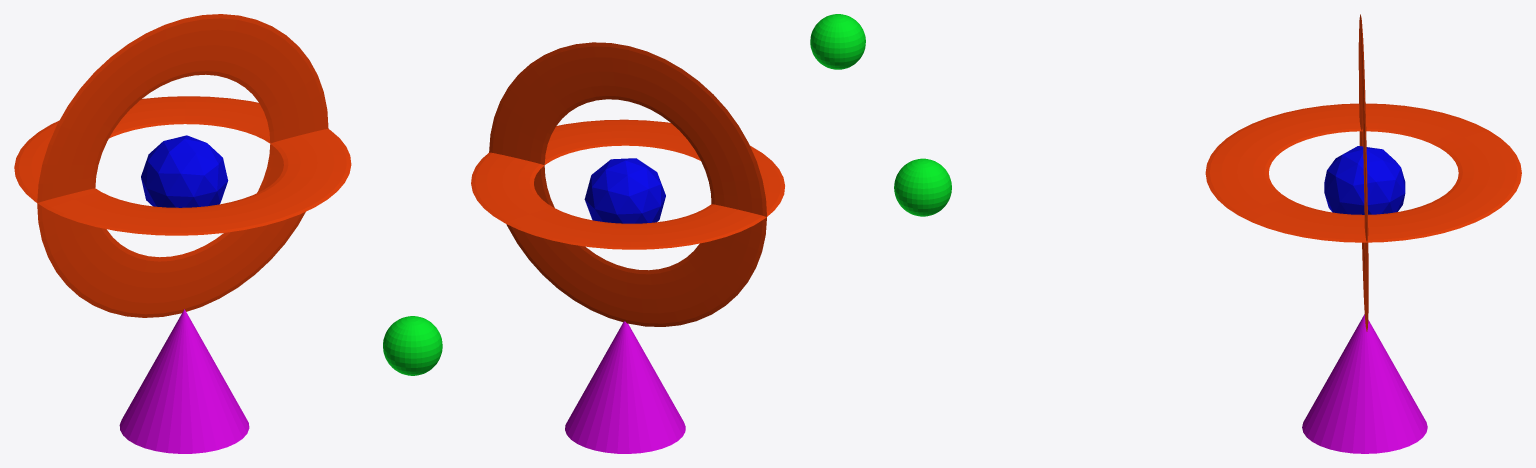
File: animate.glb
The picture shows the model from 3 angles, left to right: view 1: azimuth 30°, elevation 25°; view 2: azimuth 150°, elevation 25°; view 3: azimuth 270°, elevation 25°; orthographic projection. The views are drawn at different scales.
Visible parts, largest first — view 1: Torus, Torus.001, Cone, Icosphere, Sphere; view 2: Torus, Torus.001, Cone, Icosphere, Sphere; view 3: Torus.001, Cone, Icosphere, Sphere, Torus.
Boxes of the visible parts, bbox=[...] form: Torus: bbox=[37, 14, 328, 317]; Torus.001: bbox=[14, 96, 351, 235]; Cone: bbox=[119, 309, 249, 453]; Icosphere: bbox=[141, 135, 228, 207]; Sphere: bbox=[383, 316, 442, 375]; Torus: bbox=[489, 42, 766, 326]; Torus.001: bbox=[471, 119, 784, 249]; Cone: bbox=[565, 321, 685, 453]; Icosphere: bbox=[584, 158, 665, 223]; Sphere: bbox=[810, 14, 865, 69]; Torus.001: bbox=[1205, 103, 1521, 242]; Cone: bbox=[1302, 314, 1427, 453]; Icosphere: bbox=[1324, 146, 1405, 214]; Sphere: bbox=[894, 158, 951, 216]; Torus: bbox=[1358, 14, 1368, 331].
Bounding box in the file's own units: 5.24 × 6.96 × 9.99.
